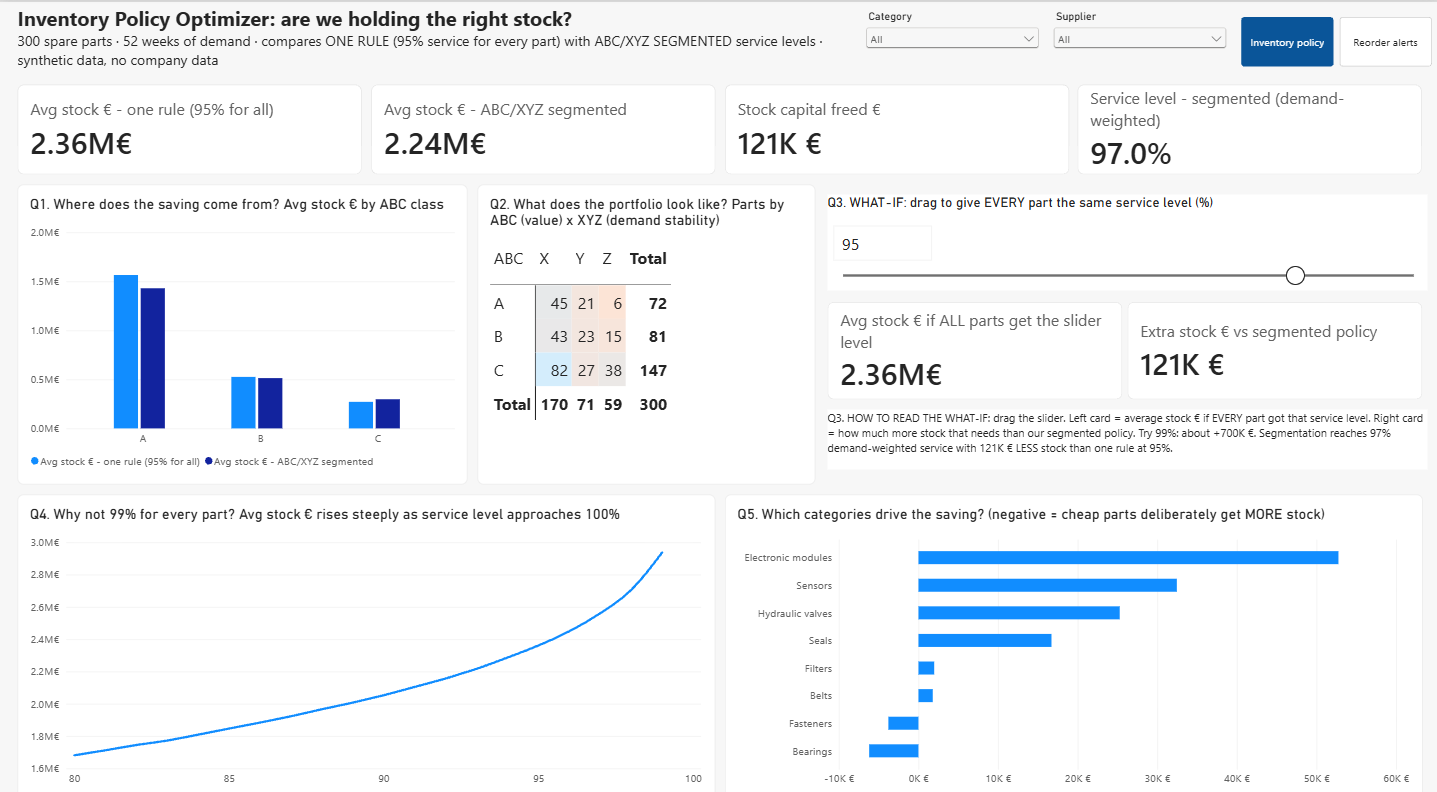

Layout of this report page (visuals, bound fields, positions):
{"tool":"powerbi","page":{"name":"Inventory policy","canvas":[1920,1080],"ordinal":0},"visuals":[{"type":"cardVisual","fields":{"Data":["tbl_Analysis.Stock Value Segmented"]},"box":[495,110,459,120],"z":0},{"type":"cardVisual","fields":{"Data":["tbl_Analysis.Weighted Service Level Segmented"]},"box":[1437,110,459,120],"z":1000},{"type":"cardVisual","fields":{"Data":["tbl_Analysis.Saving €"]},"box":[966,110,459,120],"z":2000},{"type":"cardVisual","fields":{"Data":["tbl_Analysis.Stock Value Uniform"]},"box":[24,110,459,120],"z":3000},{"type":"clusteredColumnChart","title":"Q1. Where does the saving come from? Avg stock € by ABC class","fields":{"Category":["tbl_Analysis.ABC"],"Y":["tbl_Analysis.Stock Value Uniform","tbl_Analysis.Stock Value Segmented"]},"box":[24,244,600,400],"z":4000},{"type":"pivotTable","title":"Q2. What does the portfolio look like? Parts by ABC (value) x XYZ (demand stability)","fields":{"Columns":["tbl_Analysis.XYZ"],"Rows":["tbl_Analysis.ABC"],"Values":["tbl_Analysis.Number of Parts"]},"box":[636,244,450,400],"z":5000},{"type":"clusteredBarChart","title":"Q5. Which categories drive the saving? (negative = cheap parts deliberately get MORE stock)","fields":{"Category":["tbl_Analysis.Category"],"Y":["tbl_Analysis.Saving €"]},"box":[966,656,930,410],"z":6000},{"type":"slicer","fields":{"Values":["tbl_Analysis.Category"]},"box":[1150,10,240,80],"z":7000},{"type":"slicer","fields":{"Values":["tbl_Analysis.Supplier"]},"box":[1400,10,240,80],"z":8000},{"type":"slicer","title":"   Q3. WHAT-IF: drag to give EVERY part the same service level (%)","fields":{"Values":["Service Level %.Service Level %"]},"box":[1104,256,800,128],"z":9000},{"type":"cardVisual","fields":{"Data":["Service Level %.Extra Stock vs Segmented €"]},"box":[1504,400,393,130],"z":10000},{"type":"cardVisual","fields":{"Data":["Service Level %.What-if Avg Stock Value €"]},"box":[1104,400,393,130],"z":11000},{"type":"lineChart","title":"Q4. Why not 99% for every part? Avg stock € rises steeply as service level approaches 100%","fields":{"Category":["Service Level %.Service Level %"],"Y":["Service Level %.What-if Avg Stock Value €"]},"box":[24,656,930,410],"z":12000},{"type":"textbox","box":[24,4,1110,100],"z":13000},{"type":"textbox","box":[1104,544,800,80],"z":14000},{"type":"pageNavigator","box":[1655,20,255,66],"z":15000}]}

Visuals, with their boxes in screenshot pixels (x1, y1, x2, y2), scaled from the page's 1920x1080 canvas onto the 1437x792 screenshot:
cardVisual - tbl_Analysis.Stock Value Segmented: {"left": 370, "top": 81, "right": 714, "bottom": 169}
cardVisual - tbl_Analysis.Weighted Service Level Segmented: {"left": 1076, "top": 81, "right": 1419, "bottom": 169}
cardVisual - tbl_Analysis.Saving €: {"left": 723, "top": 81, "right": 1067, "bottom": 169}
cardVisual - tbl_Analysis.Stock Value Uniform: {"left": 18, "top": 81, "right": 361, "bottom": 169}
"Q1. Where does the saving come from? Avg stock € by ABC class" clusteredColumnChart: {"left": 18, "top": 179, "right": 467, "bottom": 472}
"Q2. What does the portfolio look like? Parts by ABC (value) x XYZ (demand stability)" pivotTable: {"left": 476, "top": 179, "right": 813, "bottom": 472}
"Q5. Which categories drive the saving? (negative = cheap parts deliberately get MORE stock)" clusteredBarChart: {"left": 723, "top": 481, "right": 1419, "bottom": 782}
slicer - tbl_Analysis.Category: {"left": 861, "top": 7, "right": 1040, "bottom": 66}
slicer - tbl_Analysis.Supplier: {"left": 1048, "top": 7, "right": 1227, "bottom": 66}
"   Q3. WHAT-IF: drag to give EVERY part the same service level (%)" slicer: {"left": 826, "top": 188, "right": 1425, "bottom": 282}
cardVisual - Service Level %.Extra Stock vs Segmented €: {"left": 1126, "top": 293, "right": 1420, "bottom": 389}
cardVisual - Service Level %.What-if Avg Stock Value €: {"left": 826, "top": 293, "right": 1120, "bottom": 389}
"Q4. Why not 99% for every part? Avg stock € rises steeply as service level approaches 100%" lineChart: {"left": 18, "top": 481, "right": 714, "bottom": 782}
textbox: {"left": 18, "top": 3, "right": 849, "bottom": 76}
textbox: {"left": 826, "top": 399, "right": 1425, "bottom": 458}
pageNavigator: {"left": 1239, "top": 15, "right": 1430, "bottom": 63}
